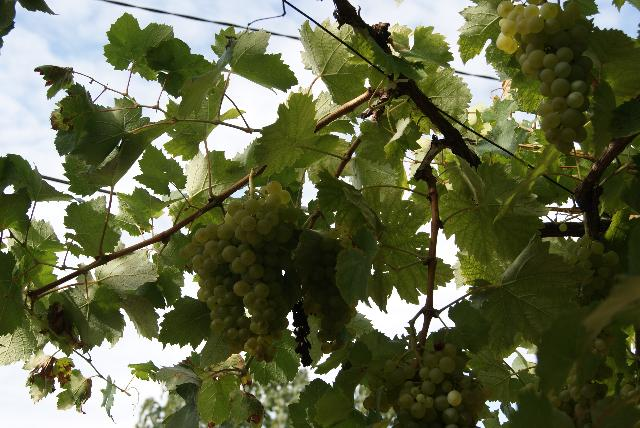grapes: (498, 2, 592, 152), (215, 195, 294, 361), (364, 342, 492, 428), (184, 224, 245, 354)
